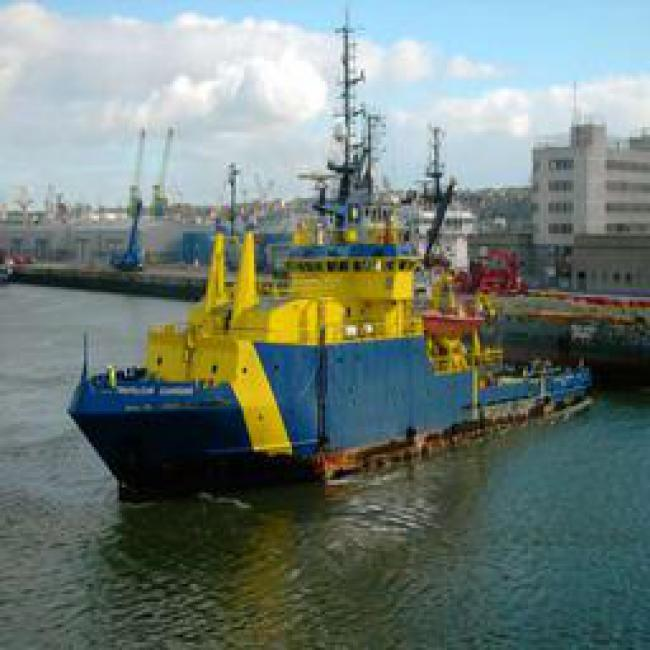Ship: (58, 264, 609, 465)
